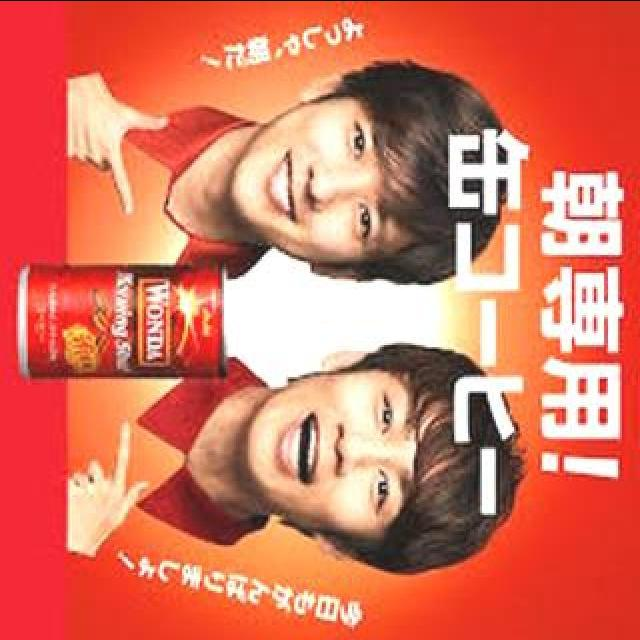can: (12, 250, 238, 392)
